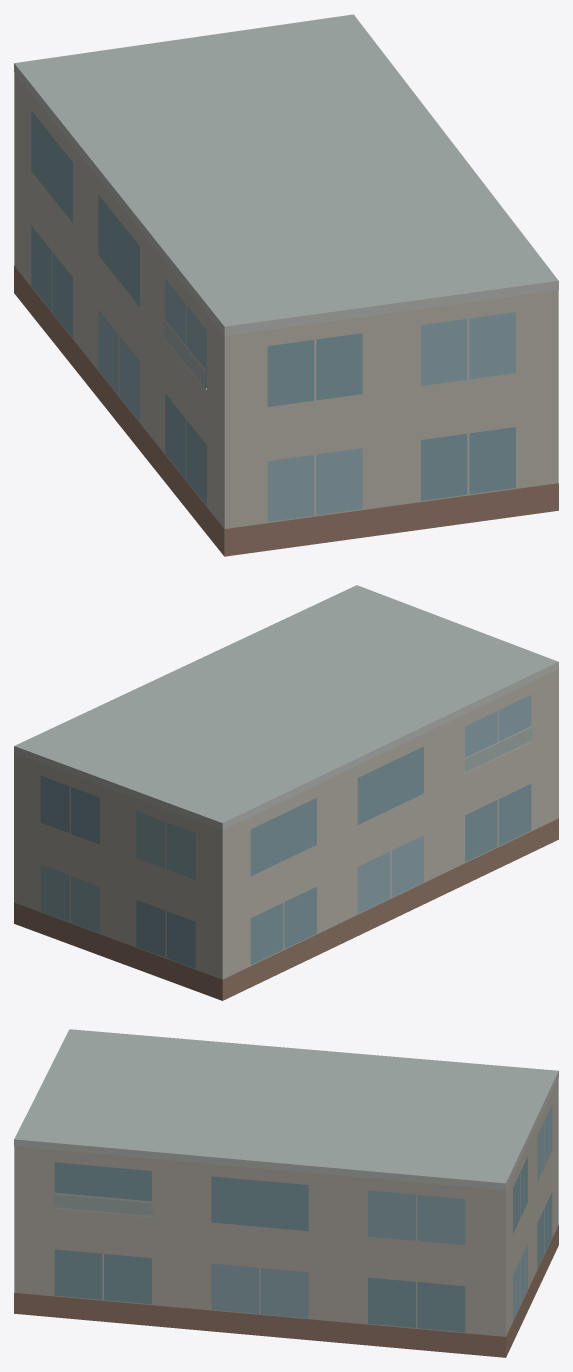
Rendered from survey-upis-32893386.glb.
3 renders of one model, top to bottom at view 1: azimuth 30°, elevation 25°; view 2: azimuth 150°, elevation 25°; view 3: azimuth 270°, elevation 25°, orthographic. The views are drawn at different scales.
Parts seen in each view (by area): view 1: survey-upis-32893386.tmp; view 2: survey-upis-32893386.tmp; view 3: survey-upis-32893386.tmp.
Boxes of the visible parts, bbox=[...] form: survey-upis-32893386.tmp: bbox=[14, 14, 558, 556]; survey-upis-32893386.tmp: bbox=[14, 585, 558, 1000]; survey-upis-32893386.tmp: bbox=[14, 1029, 558, 1357].
Size of the model in its own units: 11.59 by 6.1 by 17.28.
